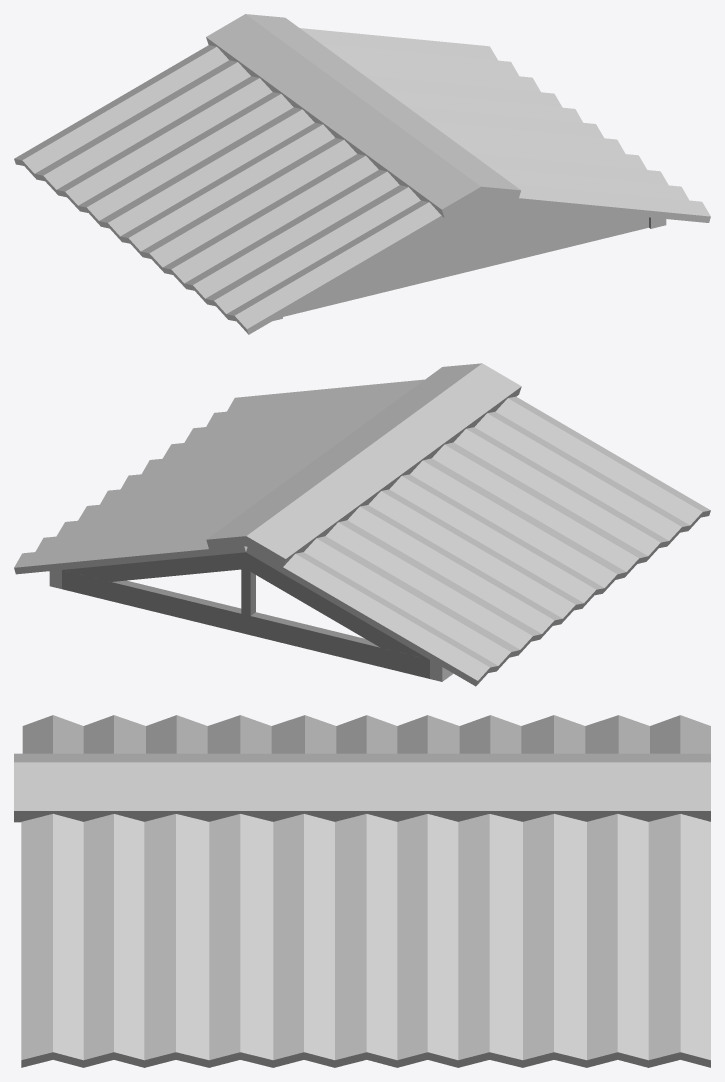
Rendered from Wh_Roof_End_6m.fbx.
3 views of the same model, one above another, from view 1: azimuth 30°, elevation 25°; view 2: azimuth 150°, elevation 25°; view 3: azimuth 270°, elevation 25° (orthographic). The views are drawn at different scales.
Parts seen in each view (by area): view 1: Cube.1066; view 2: Cube.1066; view 3: Cube.1066.
Boxes of the visible parts, x1=… form: Cube.1066: x1=14, y1=14, x2=710, y2=334; Cube.1066: x1=14, y1=363, x2=710, y2=686; Cube.1066: x1=14, y1=715, x2=710, y2=1067.
Size of the model in its own units: 763 by 153 by 667.
